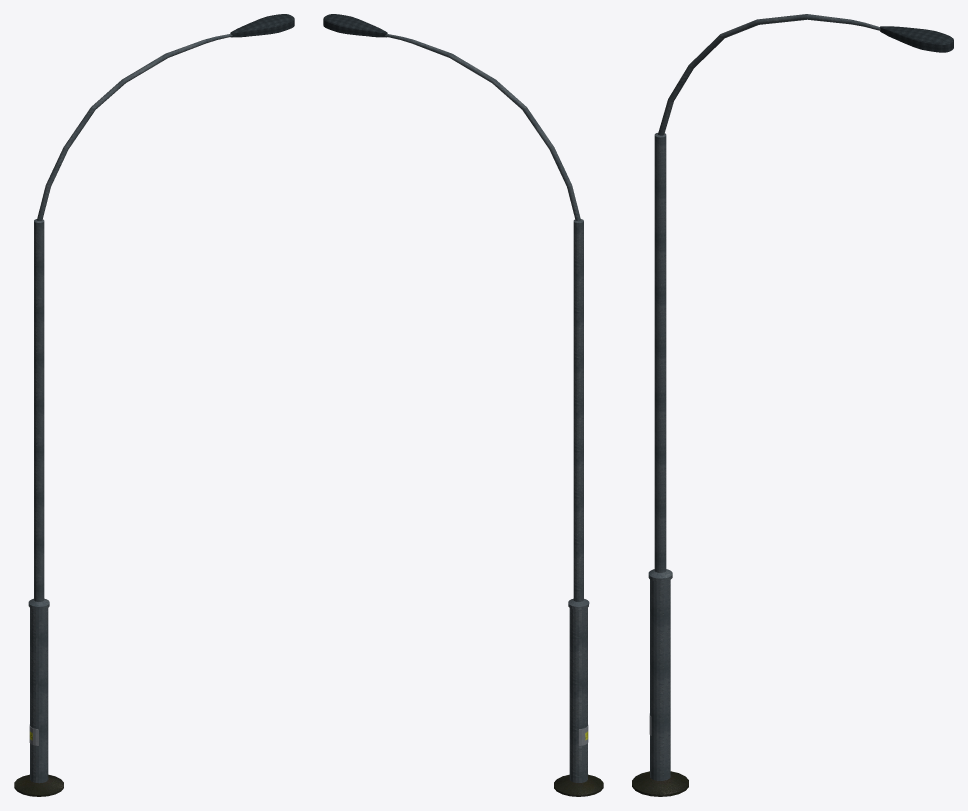
Rendered from lamppost3.obj.
3 renders of one model, left to right at view 1: azimuth 30°, elevation 25°; view 2: azimuth 150°, elevation 25°; view 3: azimuth 330°, elevation 25°, orthographic. The views are drawn at different scales.
Visible parts, largest first — view 1: lamppost3_L0; view 2: lamppost3_L0; view 3: lamppost3_L0.
Boxes of the visible parts, x1,y1,x2,y2 form: lamppost3_L0: [14, 14, 294, 796]; lamppost3_L0: [323, 14, 603, 796]; lamppost3_L0: [632, 14, 953, 796].
Size of the model in its own units: 3.11 by 7.67 by 0.4862.
